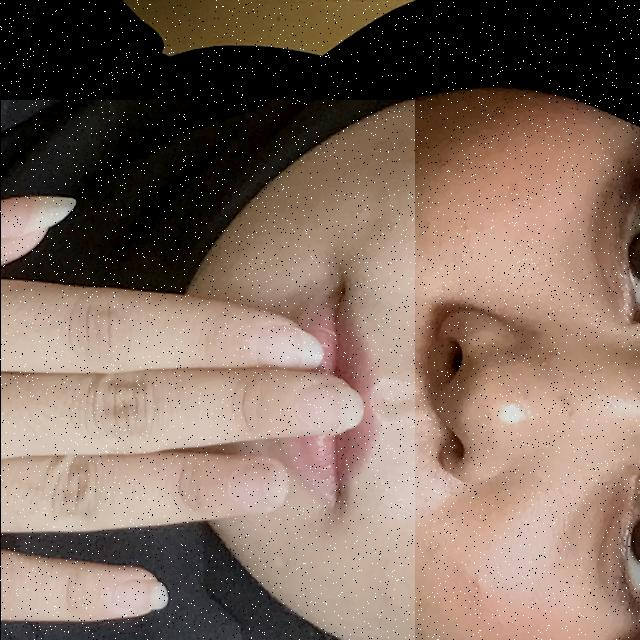ganteng: (0, 100, 414, 640)
